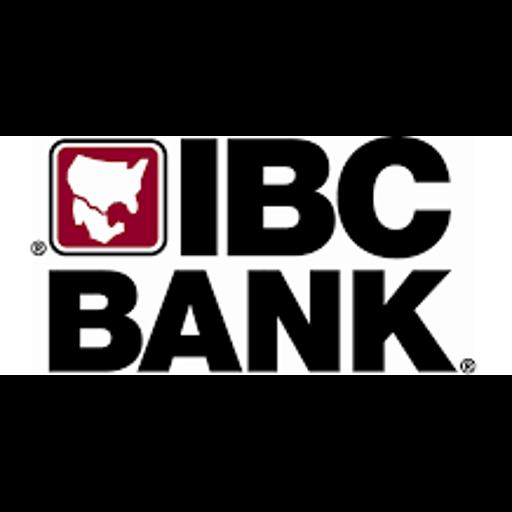IBC Bank: (0, 136, 512, 375)
